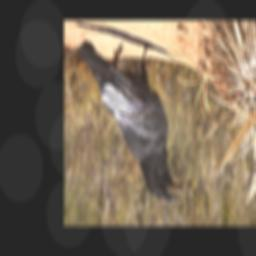Crow: (74, 40, 183, 202)
